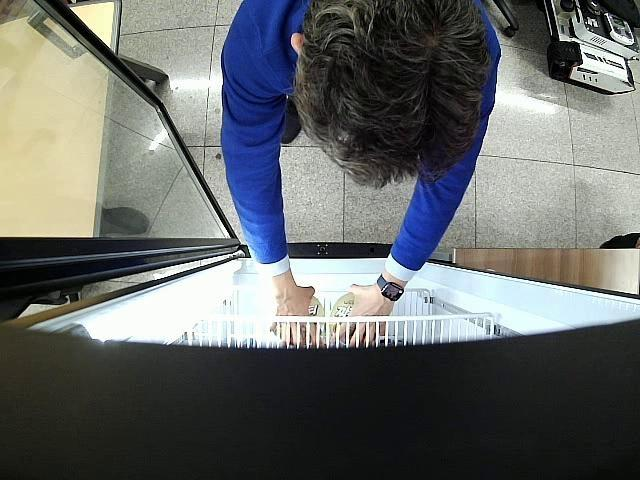03_chapagetti_L: (274, 296, 325, 344), (329, 292, 355, 346)
